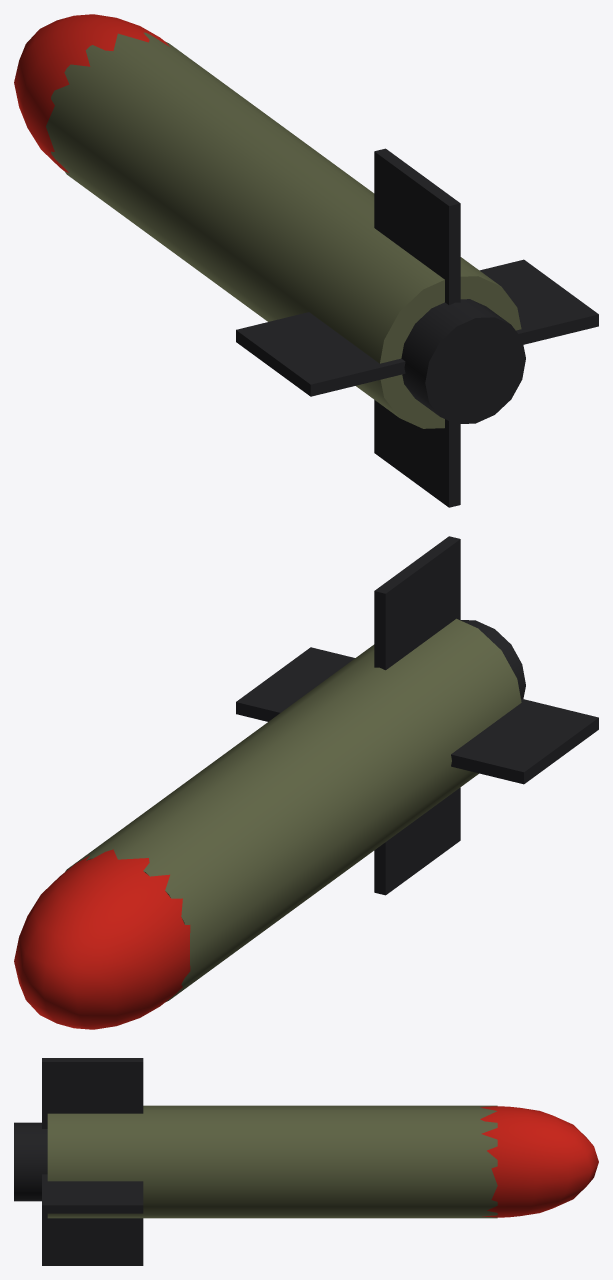
Rendered from rocket.obj.
3 views of the same model, one above another, from view 1: azimuth 30°, elevation 25°; view 2: azimuth 150°, elevation 25°; view 3: azimuth 270°, elevation 25° (orthographic). The views are drawn at different scales.
Visible parts, largest first — view 1: RocketBody_0, RocketFins_2, RocketNose_1; view 2: RocketBody_0, RocketFins_2, RocketNose_1; view 3: RocketBody_0, RocketFins_2, RocketNose_1.
Boxes of the visible parts, <box> form: RocketBody_0: <box>46,32,521,428</box>; RocketFins_2: <box>236,148,598,507</box>; RocketNose_1: <box>14,14,169,172</box>; RocketBody_0: <box>65,618,521,1002</box>; RocketFins_2: <box>236,536,598,895</box>; RocketNose_1: <box>14,849,190,1029</box>; RocketBody_0: <box>47,1105,497,1218</box>; RocketFins_2: <box>14,1058,143,1265</box>; RocketNose_1: <box>480,1106,598,1217</box>.
Size of the model in its own units: 0.2 by 0.2 by 0.52.
